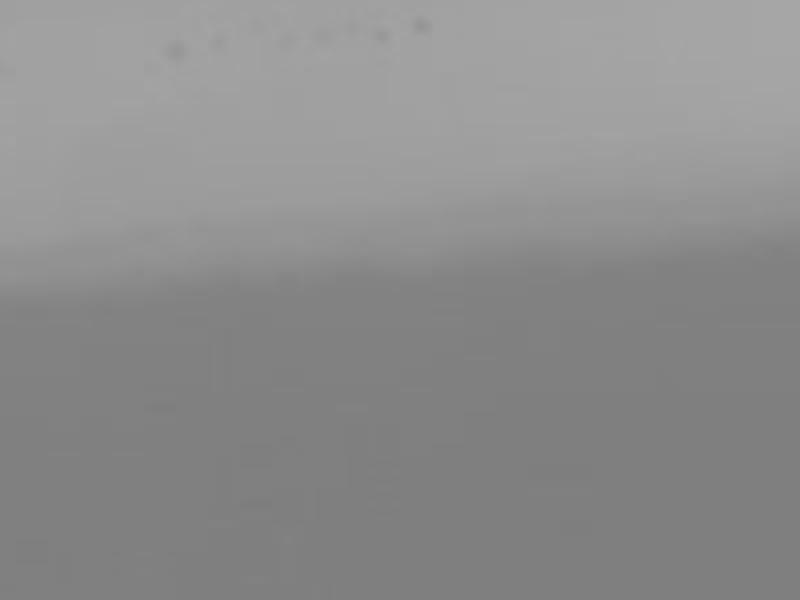defect: (162, 34, 186, 62), (408, 10, 435, 33), (204, 27, 228, 48), (371, 25, 395, 45), (144, 57, 163, 74)
